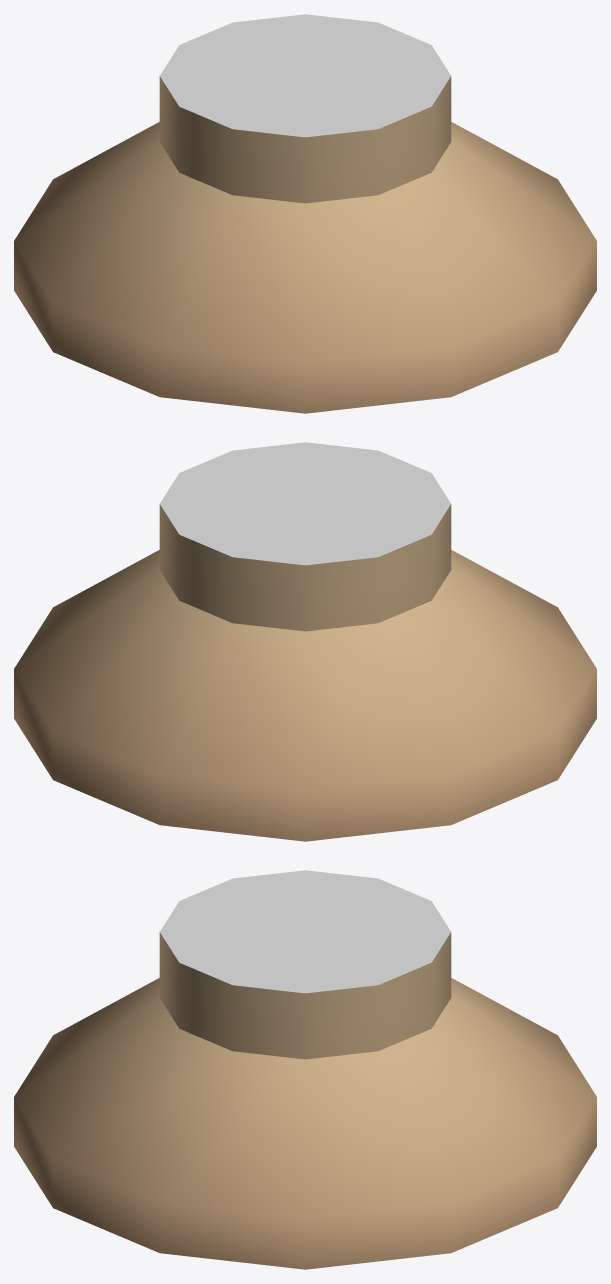
Rendered from lamp-ceiling (%ceiling).glb.
3 renders of one model, top to bottom at view 1: azimuth 30°, elevation 25°; view 2: azimuth 150°, elevation 25°; view 3: azimuth 270°, elevation 25°, orthographic.
Parts seen in each view (by area): view 1: lamp-ceiling (%ceiling); view 2: lamp-ceiling (%ceiling); view 3: lamp-ceiling (%ceiling).
Boxes of the visible parts, x1,y1,x2,y2 form: lamp-ceiling (%ceiling): (14, 14, 596, 413); lamp-ceiling (%ceiling): (14, 442, 596, 841); lamp-ceiling (%ceiling): (14, 870, 596, 1269).
Bounding box in the file's own units: 0.4 × 0.1625 × 0.4.
